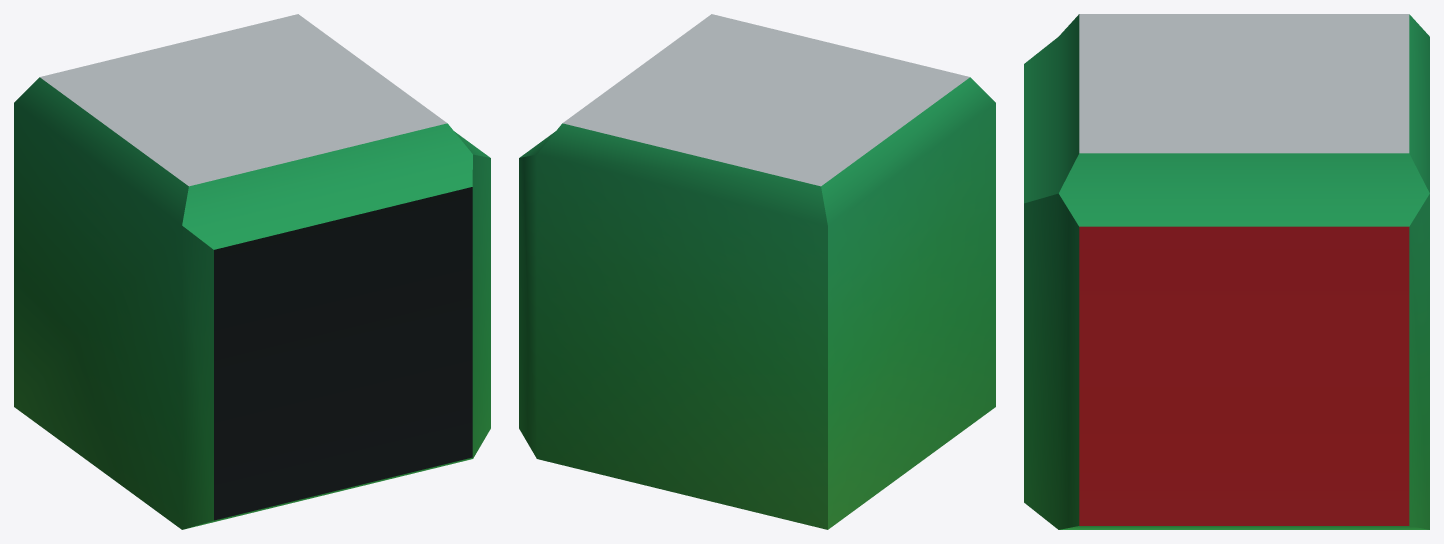
File: puzzlecube_center_puzzlecube_I.glb
3 views of the same model, side by side, from view 1: azimuth 30°, elevation 25°; view 2: azimuth 150°, elevation 25°; view 3: azimuth 270°, elevation 25° (orthographic). The views are drawn at different scales.
Parts seen in each view (by area): view 1: puzzlecube_I; view 2: puzzlecube_I; view 3: puzzlecube_I.
Boxes of the visible parts, box(x1,y1,x2,y2) form: puzzlecube_I: box(14, 14, 490, 529); puzzlecube_I: box(519, 14, 995, 529); puzzlecube_I: box(1024, 14, 1429, 529).
Size of the model in its own units: 0.1457 by 0.1457 by 0.1457.
Materials: 1 (1 with a texture image).
